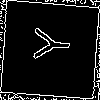Y: (25, 25, 71, 63)
